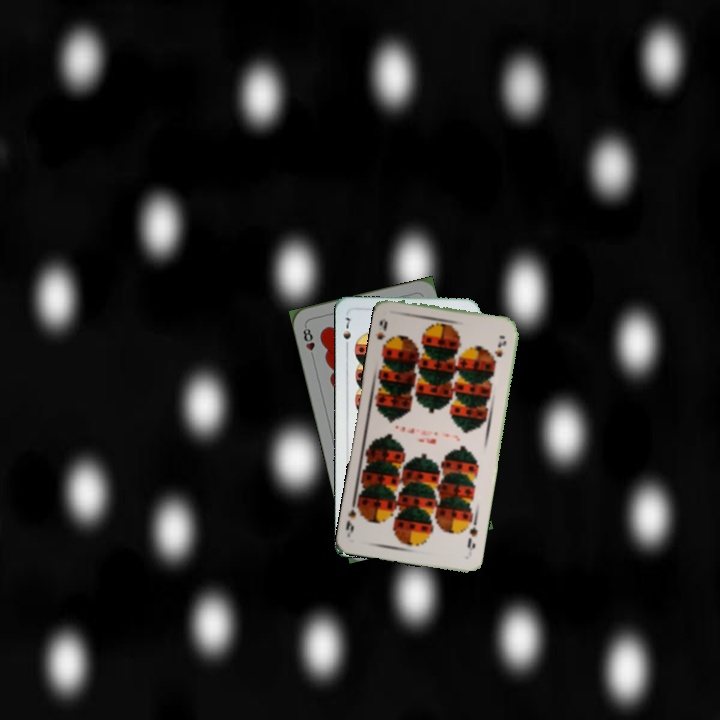H8: (299, 322, 317, 362)
S7: (339, 313, 353, 352)
S9: (372, 314, 392, 352), (463, 523, 480, 553)
